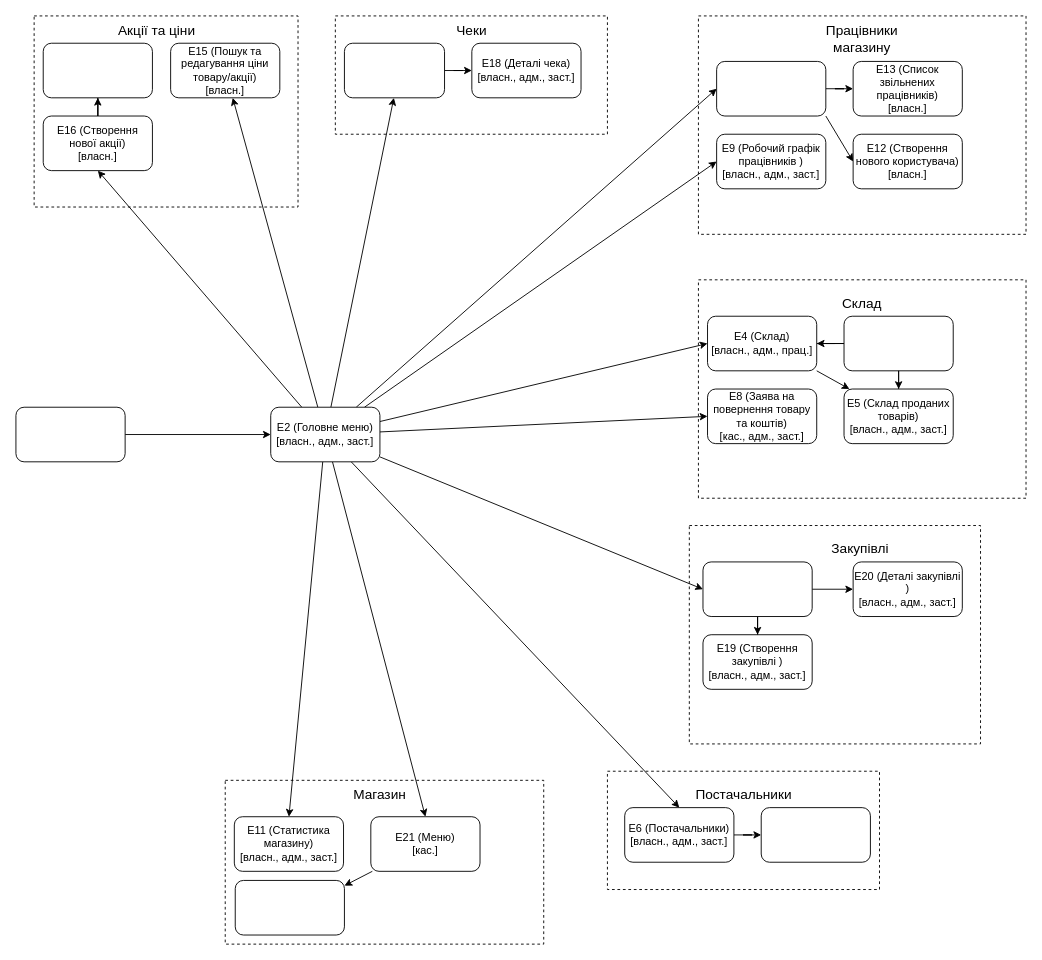
Some shapes in this 1042 by 960 pixel diagram are drawn without their labels. The shapes that lost their labels are listed below. From the top down, each one's centre as x and y in pixels, then its label:
the point at 97,70: Е17 (Історія акцій) [власн.]
the point at 394,70: Е7 (Історія чеків) [власн., адм., заст.]
the point at 771,88: Е3 (Працівники магазину) [власн., адм.]
the point at 898,343: Е23 (Внесення нового товару) [прац.]
the point at 70,434: Е1 (Головна) [кас., власн., адм., заст., прац.]
the point at 757,589: Е10 (Список закупівель) [власн., адм., заст.]
the point at 815,834: Е14 (Реєстрація нового постачальника) [власн.]
the point at 289,907: Е22 (Пошук товару по штрихкоду) [кас.]
